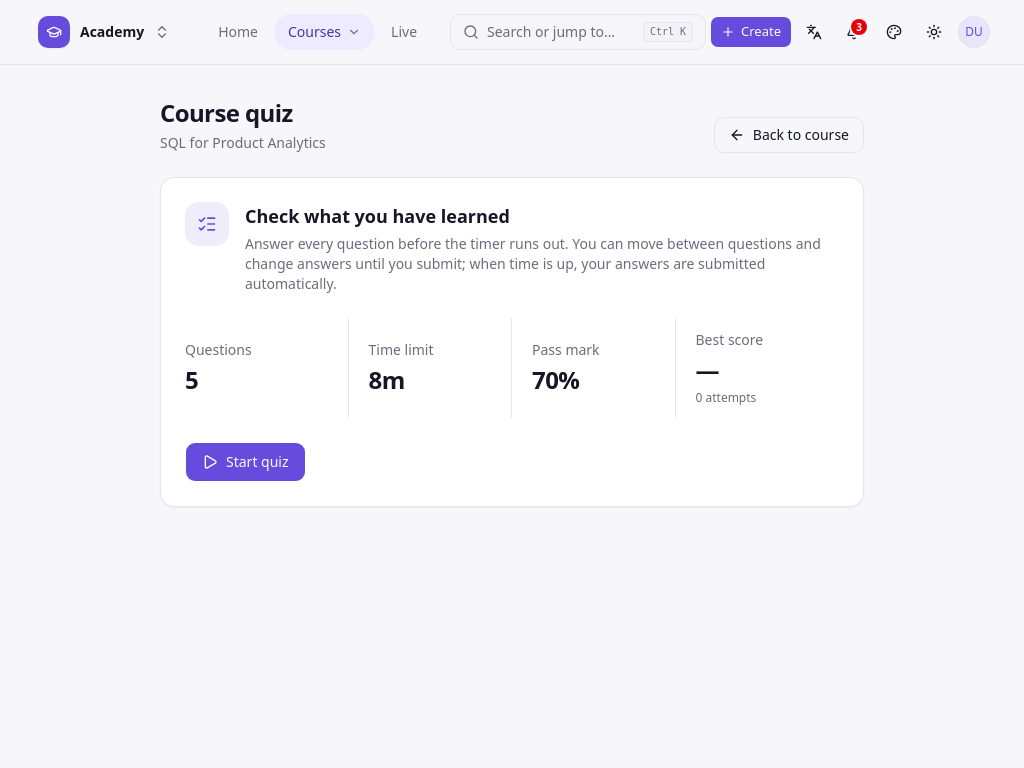
Test: Academy workspace › takes a quiz and reviews the answers
Click the button "Start quiz".
click(245, 462)  # box left=185, top=442, right=306, bottom=482
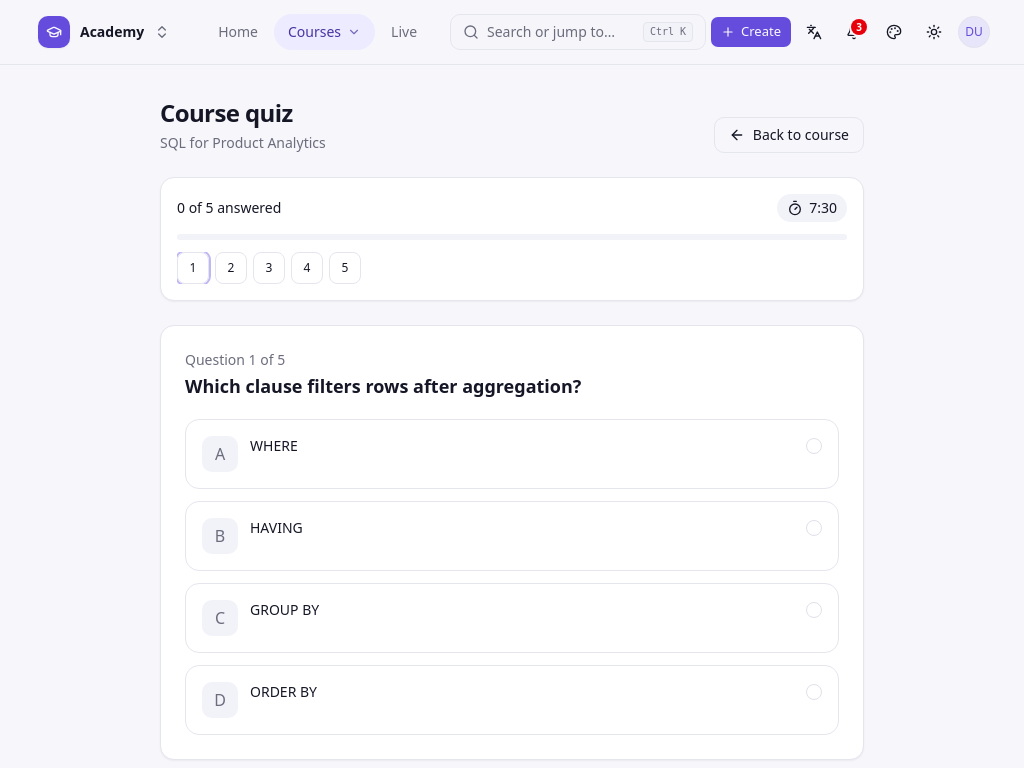
Expected: the text "Question 1 of 5" is shown, left=185, top=350, right=285, bottom=369
Click the radio button labelled "B HAVING".
click(220, 536)  # box left=185, top=501, right=839, bottom=571
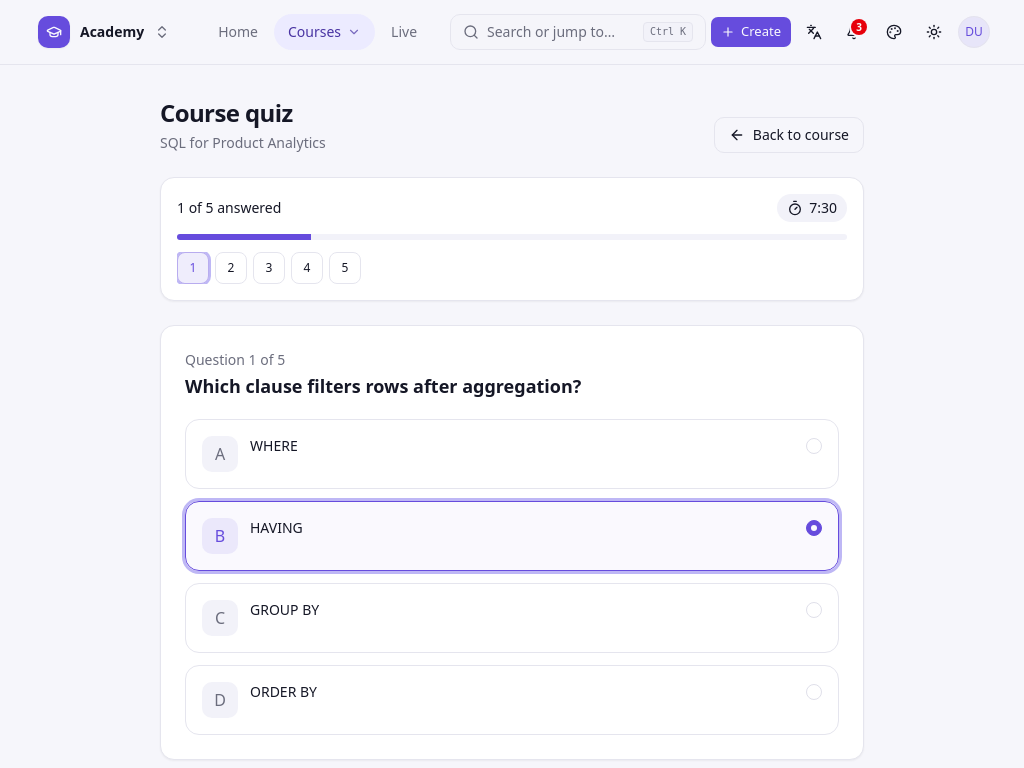
Click the button named "Go to question 5".
click(345, 268)  # box left=329, top=252, right=361, bottom=284
(page scrolled)
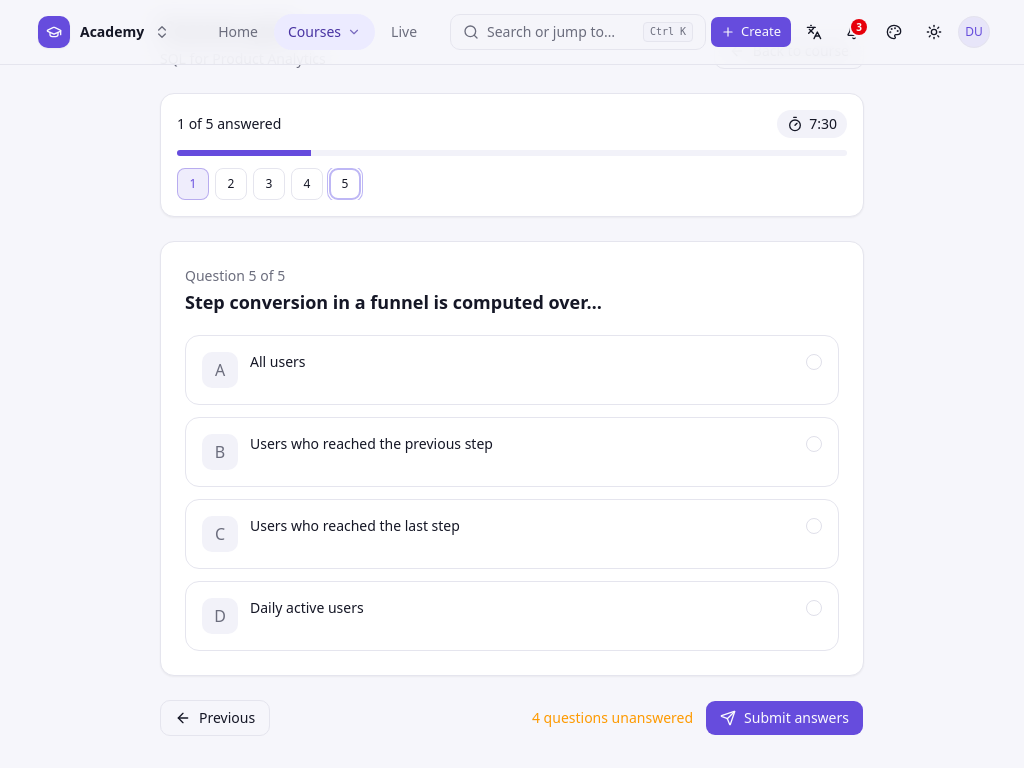
Click the button "Submit answers".
click(784, 718)  # box left=705, top=700, right=864, bottom=736
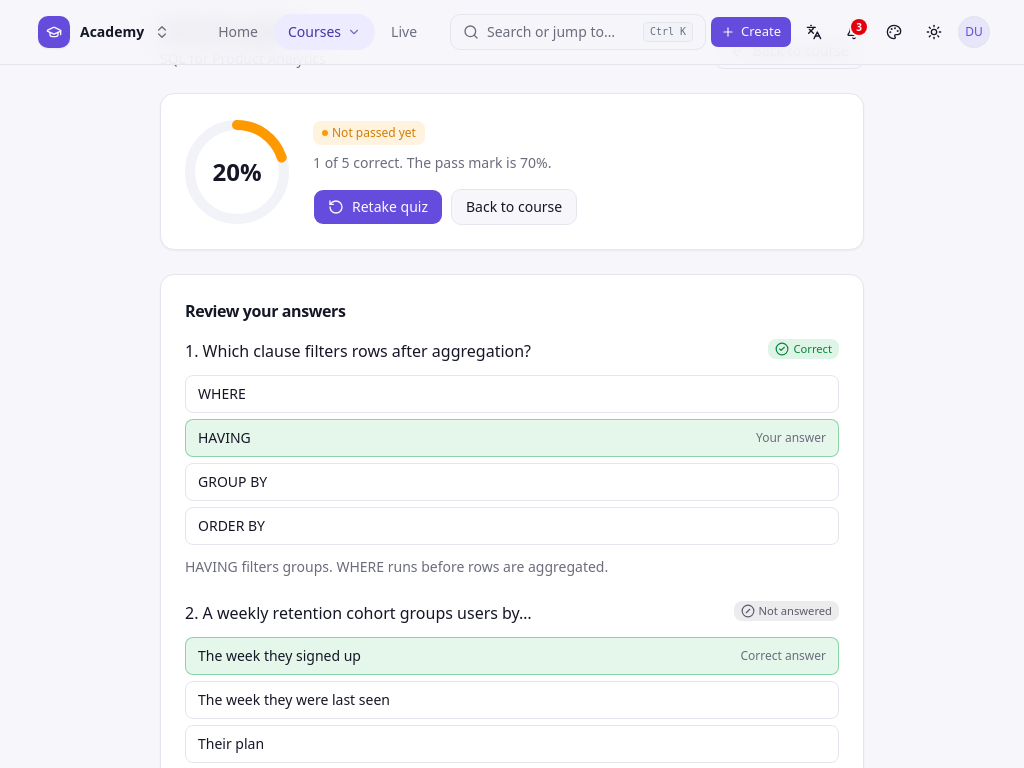
Expected: the heading "Review your answers" is shown, left=185, top=299, right=346, bottom=323
Expected: the text "20%" is shown, left=212, top=154, right=262, bottom=188
